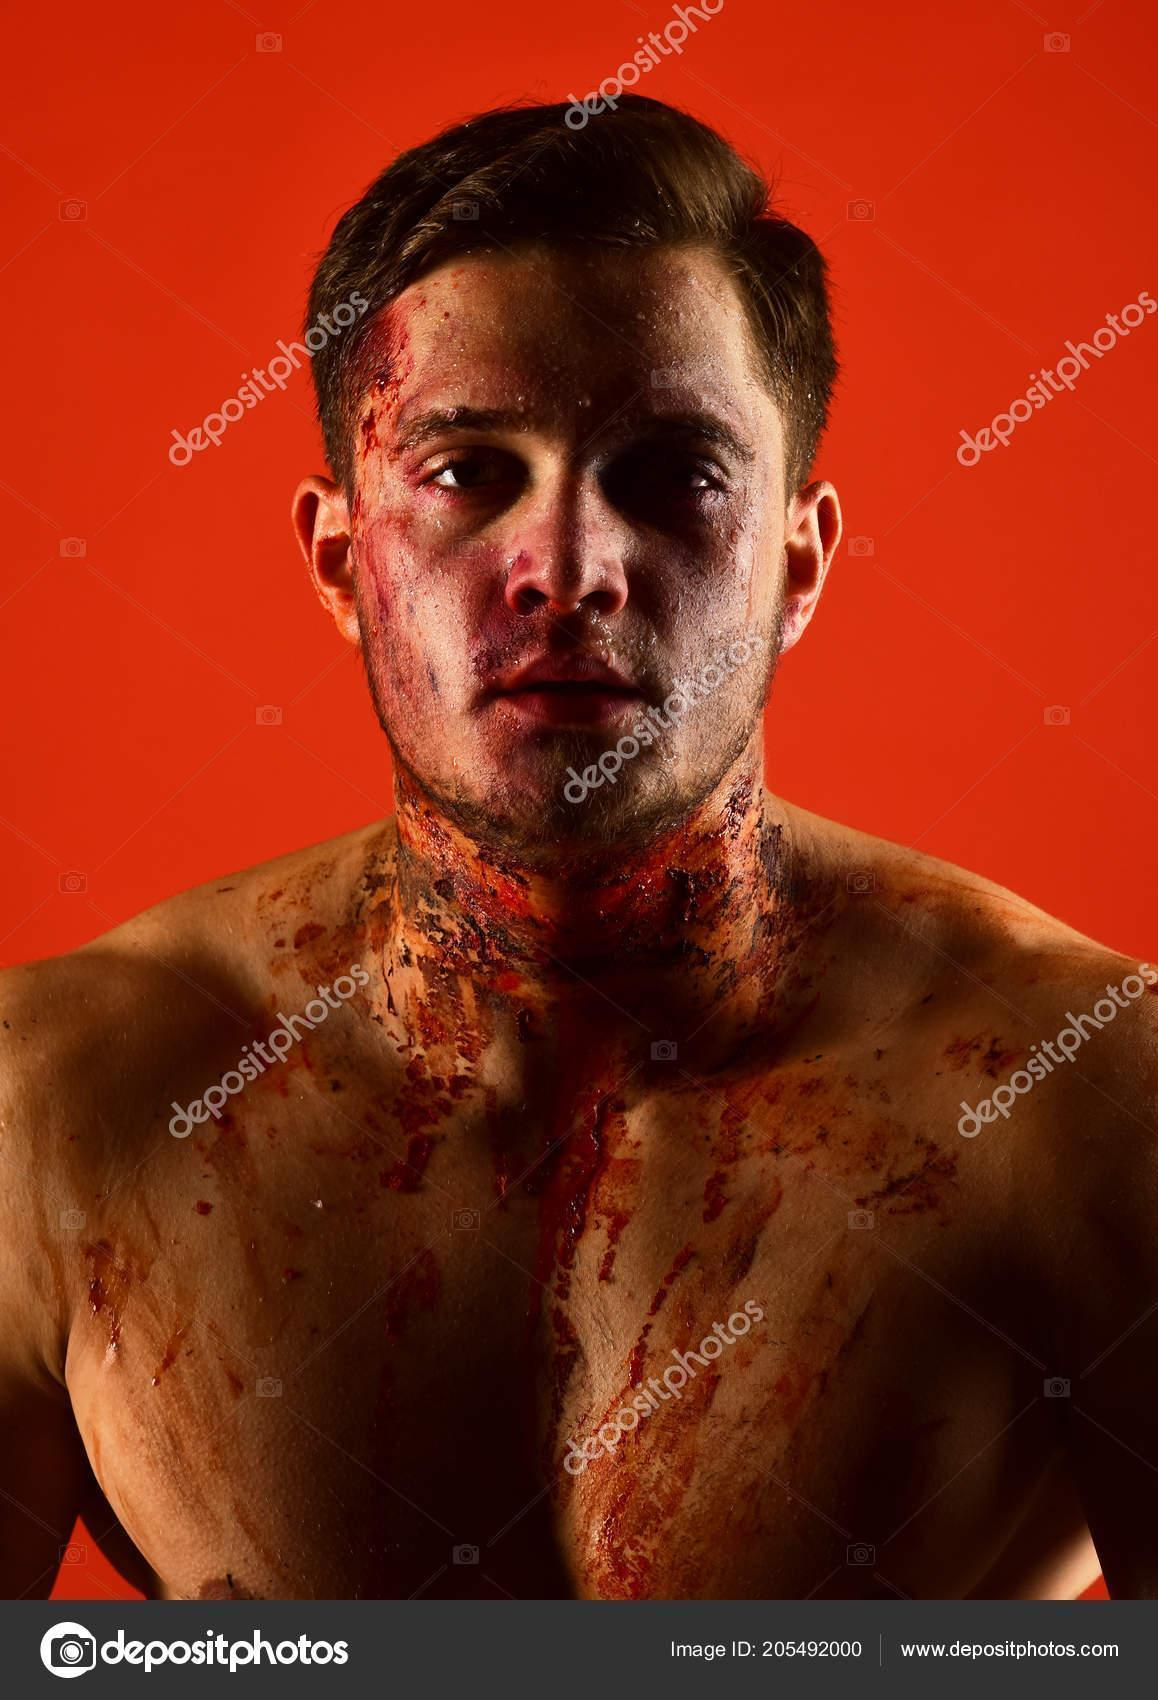Fire: (70, 305, 1124, 1599)
